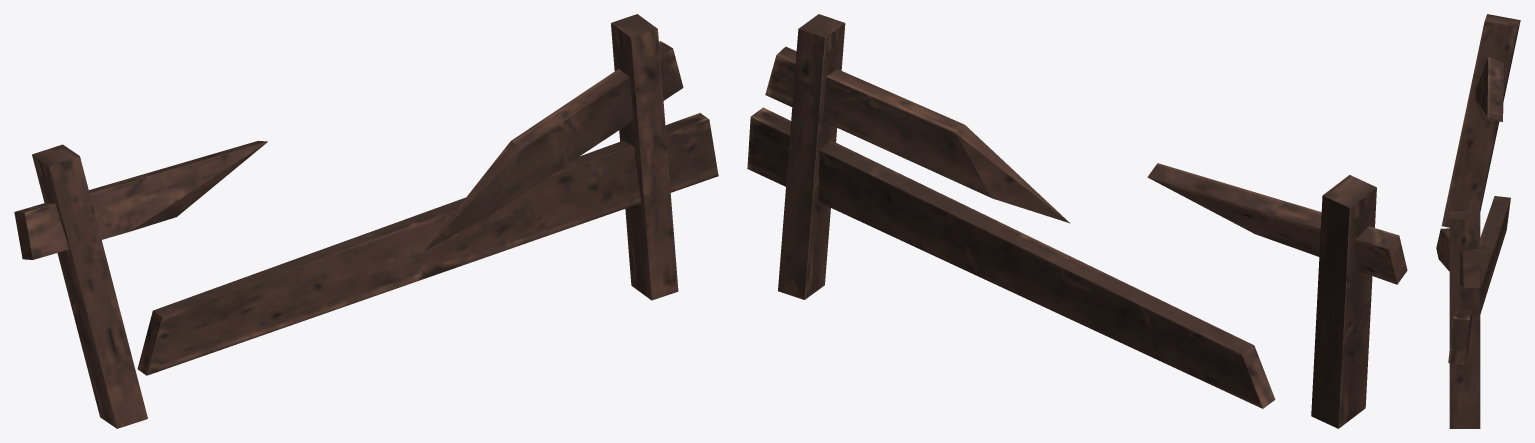
Rendered from zshh_muzalan_2.FBX.
3 renders of one model, left to right at view 1: azimuth 30°, elevation 25°; view 2: azimuth 150°, elevation 25°; view 3: azimuth 270°, elevation 25°, orthographic. The views are drawn at different scales.
Visible parts, largest first — view 1: kqzd_muzalan_2; view 2: kqzd_muzalan_2; view 3: kqzd_muzalan_2.
Part boxes in pixels (box(x1,y1,x2,y2)): kqzd_muzalan_2: box(14, 14, 718, 428); kqzd_muzalan_2: box(747, 14, 1407, 428); kqzd_muzalan_2: box(1436, 14, 1520, 428).
Size of the model in its own units: 224 by 32.5 by 86.72.
